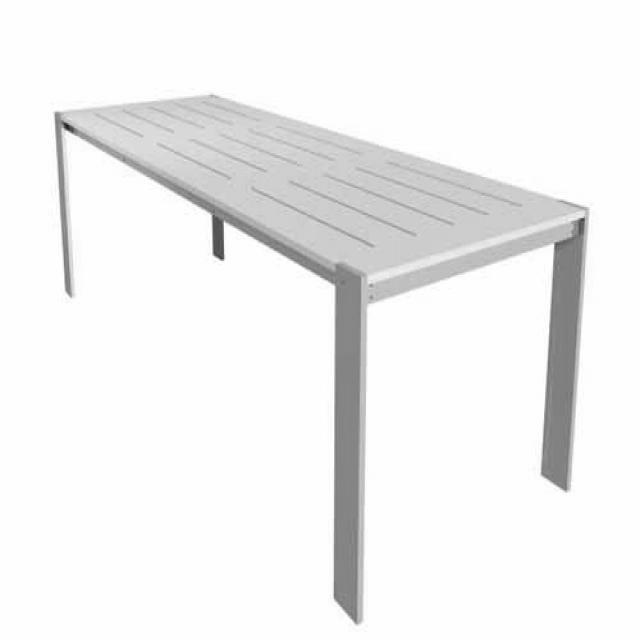table: (55, 93, 591, 624)
